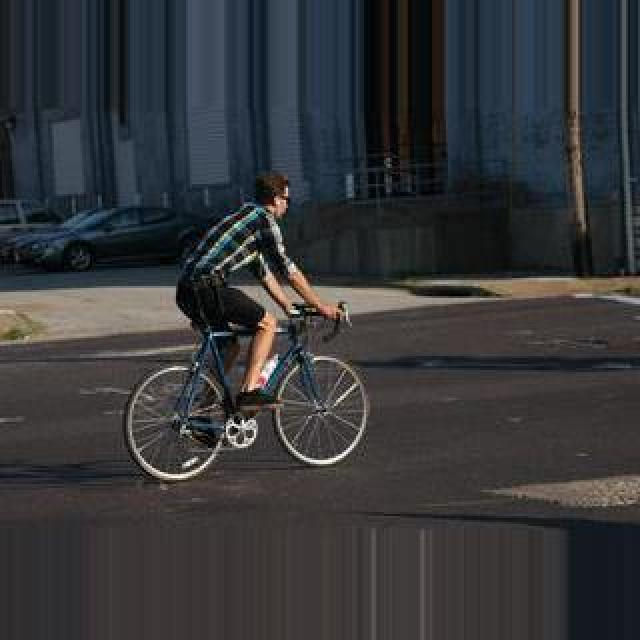Bus-Bike: (10, 206, 204, 272)
MC-Bike: (180, 174, 352, 448)
Person: (122, 298, 374, 478)
